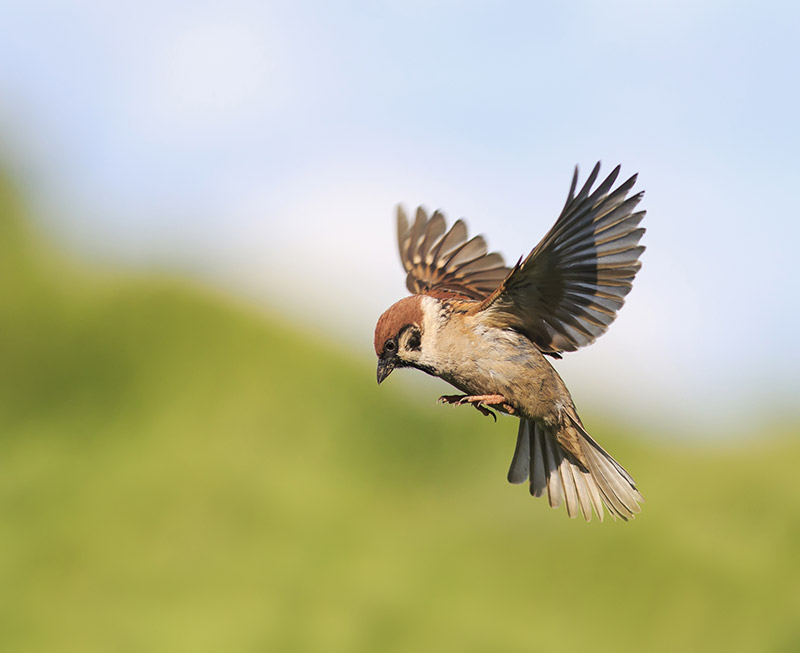bird: (332, 135, 697, 550)
